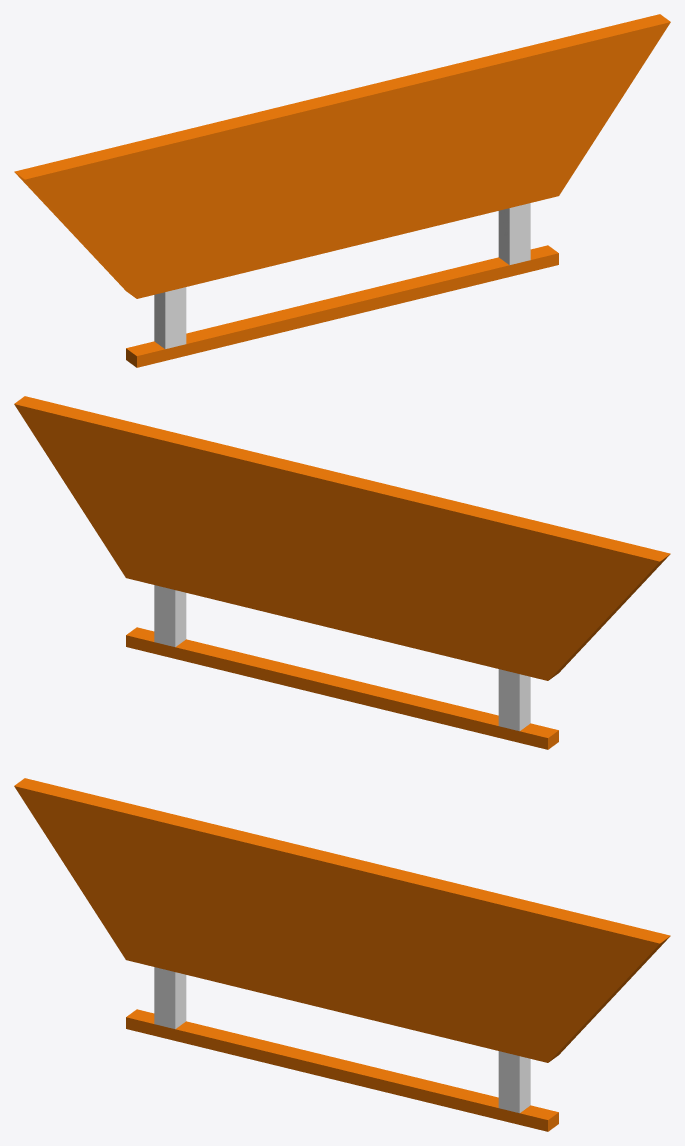
File: SignA.fbx
3 views of the same model, one above another, from view 1: azimuth 30°, elevation 25°; view 2: azimuth 150°, elevation 25°; view 3: azimuth 330°, elevation 25° (orthographic).
Visible parts, largest first — view 1: SignA; view 2: SignA; view 3: SignA.
Boxes of the visible parts, x1,y1,x2,y2 form: SignA: [14, 14, 670, 367]; SignA: [14, 396, 670, 749]; SignA: [14, 778, 670, 1131].
Bounding box in the file's own units: 250 × 79.74 × 7.29.
Materials: 1 (1 with a texture image).
